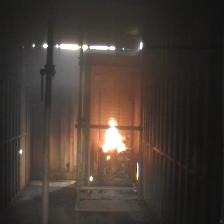fire: (100, 117, 130, 154)
